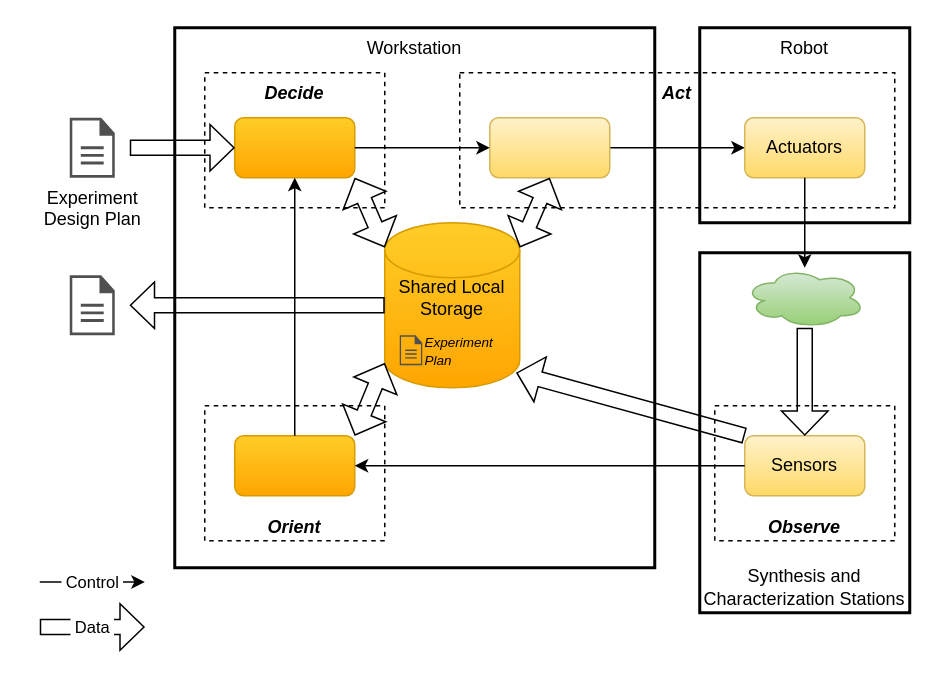
Image size: 938x677. Some labels were removed from this diagram. Here are the shapes that lost their labels. From the top down, the centre of each, then its label:
At point 294,147: "Planner".
At point 549,147: "Controller".
At point 91,304: "Raw Experiment Result".
At point 804,297: "Test".
At point 294,465: "Analyser".
